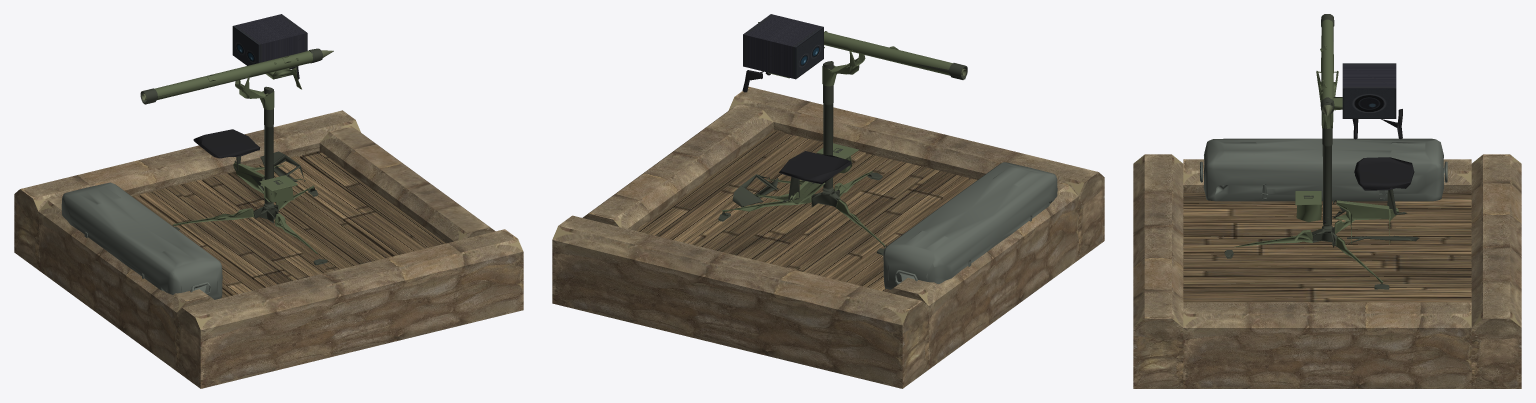
File: sam.glb
3 renders of one model, left to right at view 1: azimuth 30°, elevation 25°; view 2: azimuth 150°, elevation 25°; view 3: azimuth 270°, elevation 25°, orthographic. The views are drawn at different scales.
Visible parts, largest first — view 1: SM_Talon; view 2: SM_Talon; view 3: SM_Talon.
Part boxes in pixels (x1,y1,x2,y2): SM_Talon: (14, 14, 523, 388); SM_Talon: (552, 14, 1104, 388); SM_Talon: (1133, 14, 1521, 388).
Size of the model in its own units: 3.1 by 2.13 by 3.1.
Materials: 9 (3 with a texture image).
